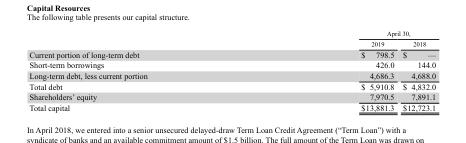table: (28, 28, 435, 111)
table column: (28, 28, 253, 111), (253, 28, 397, 111), (397, 28, 435, 111)
table column header: (28, 28, 435, 48)
table row: (28, 37, 435, 48), (28, 48, 435, 59), (28, 59, 435, 70), (28, 80, 435, 91), (28, 70, 435, 80), (28, 91, 435, 101), (28, 101, 435, 111), (28, 28, 435, 37)
table spanning cell: (253, 28, 435, 37)
